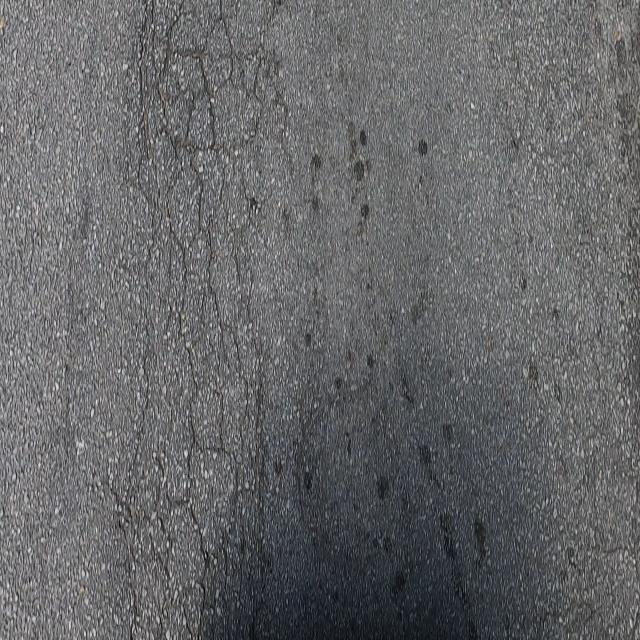Retak-Buaya: (121, 0, 291, 640)
